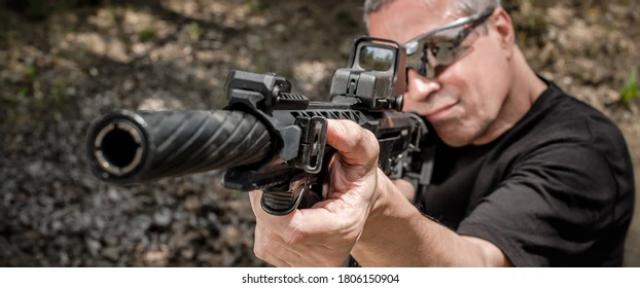other: (255, 0, 636, 262)
